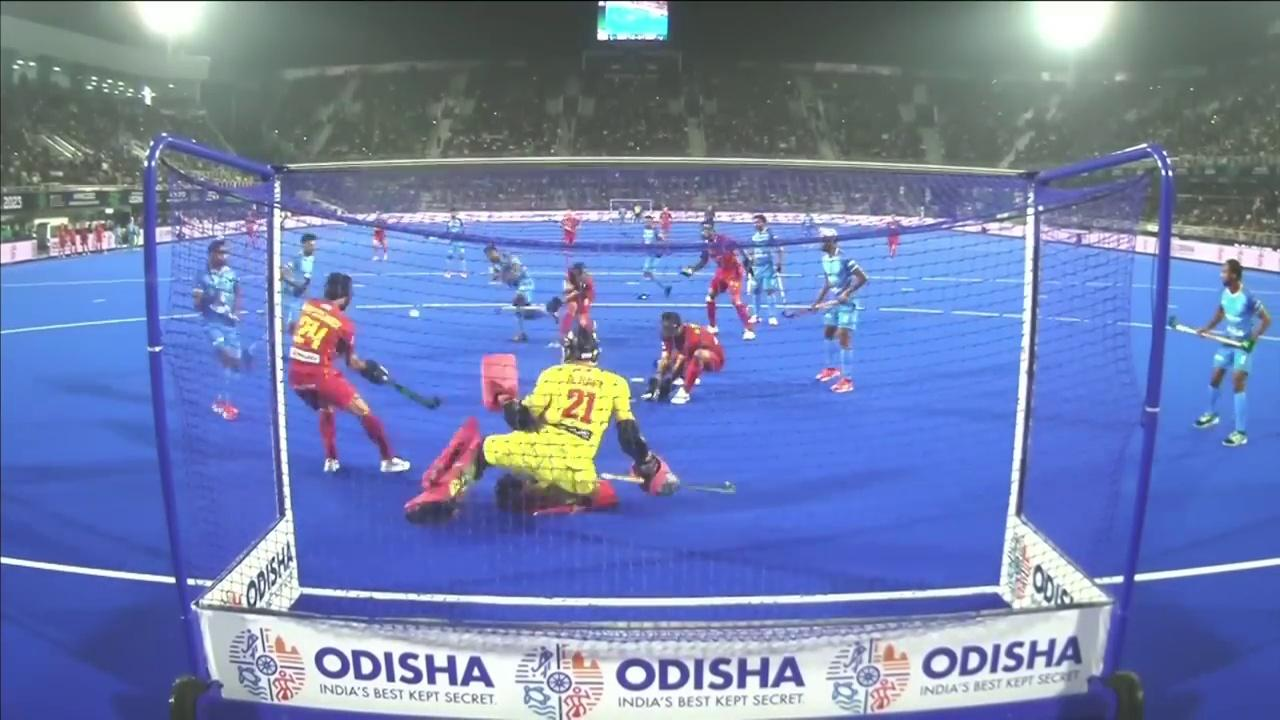ball: (404, 306, 420, 325)
